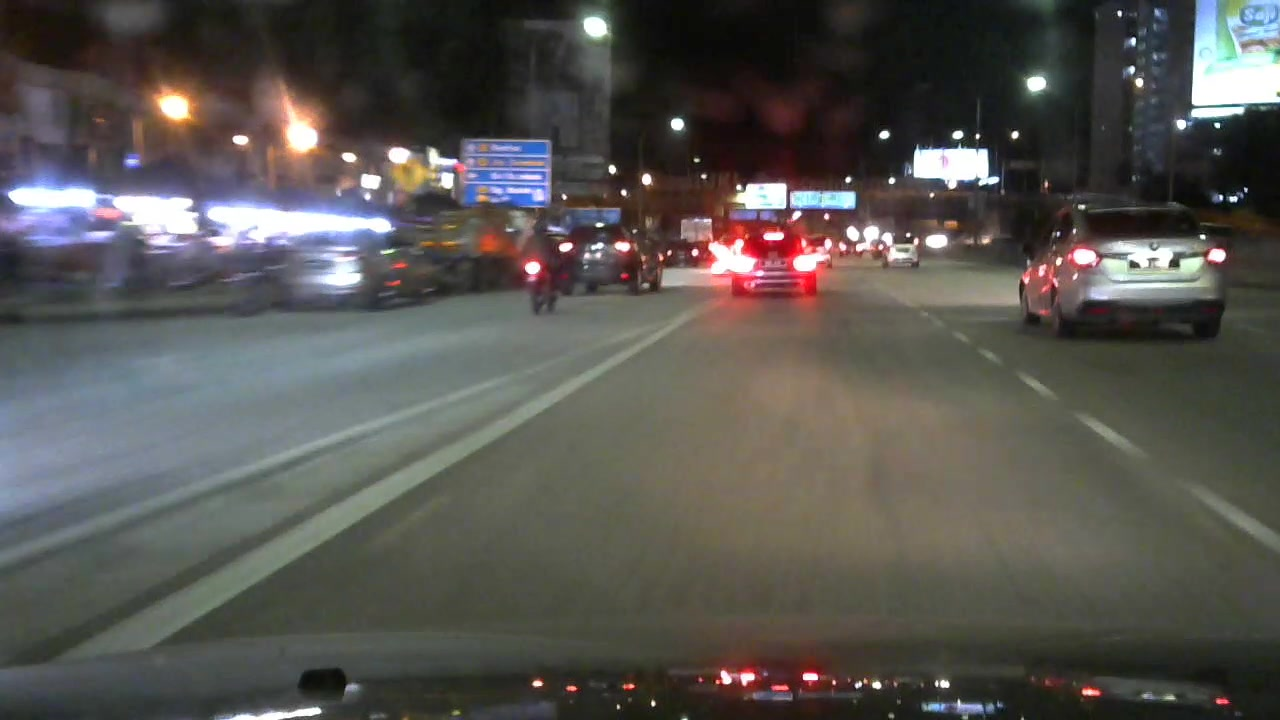Car: (1012, 188, 1226, 326), (280, 214, 430, 311), (561, 214, 666, 303), (724, 228, 817, 304), (874, 232, 940, 273), (799, 229, 837, 265), (840, 235, 869, 259)
